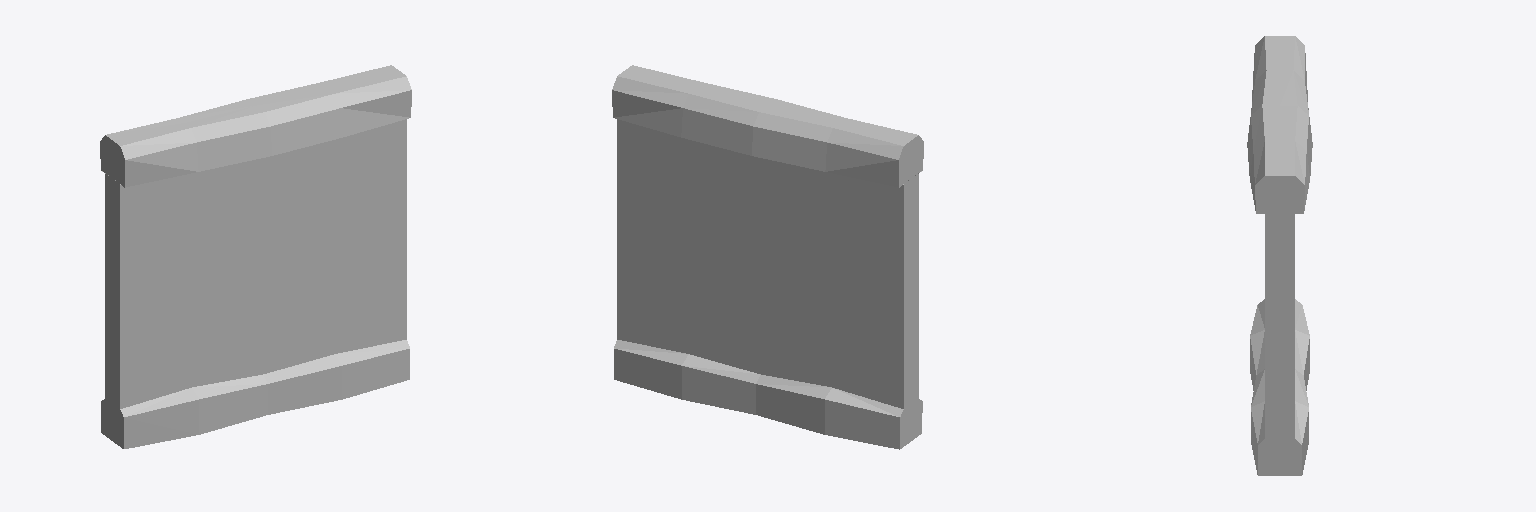
Rendered from WallLH.obj.
The picture shows the model from 3 angles: view 1: azimuth 30°, elevation 25°; view 2: azimuth 150°, elevation 25°; view 3: azimuth 270°, elevation 25°; orthographic projection.
Parts seen in each view (by area): view 1: TEMP; view 2: TEMP; view 3: TEMP.
Boxes of the visible parts, x1=… form: TEMP: x1=100, y1=65, x2=411, y2=448; TEMP: x1=612, y1=65, x2=923, y2=449; TEMP: x1=1247, y1=36, x2=1312, y2=475.
Bounding box in the file's own units: 128 × 128 × 25.35.